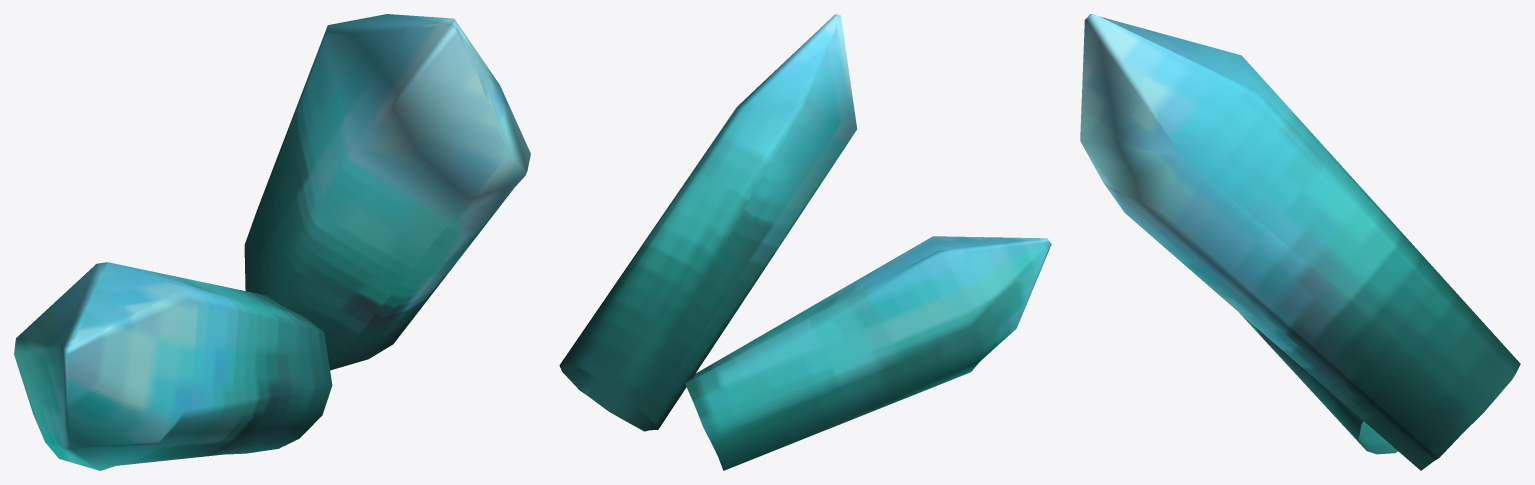
Rendered from Crystall_4.fbx.
3 renders of one model, left to right at view 1: azimuth 30°, elevation 25°; view 2: azimuth 150°, elevation 25°; view 3: azimuth 270°, elevation 25°, orthographic. The views are drawn at different scales.
Parts seen in each view (by area): view 1: tripo_78f1625e_427e_4ab7_ba19_2ef5df76ef18.003; view 2: tripo_78f1625e_427e_4ab7_ba19_2ef5df76ef18.003; view 3: tripo_78f1625e_427e_4ab7_ba19_2ef5df76ef18.003.
Part boxes in pixels (left/top/right/bottom): tripo_78f1625e_427e_4ab7_ba19_2ef5df76ef18.003: left=14, top=14, right=530, bottom=470; tripo_78f1625e_427e_4ab7_ba19_2ef5df76ef18.003: left=559, top=14, right=1051, bottom=470; tripo_78f1625e_427e_4ab7_ba19_2ef5df76ef18.003: left=1080, top=14, right=1520, bottom=470.
Bounding box in the file's own units: 22.9 × 22.22 × 19.97.
